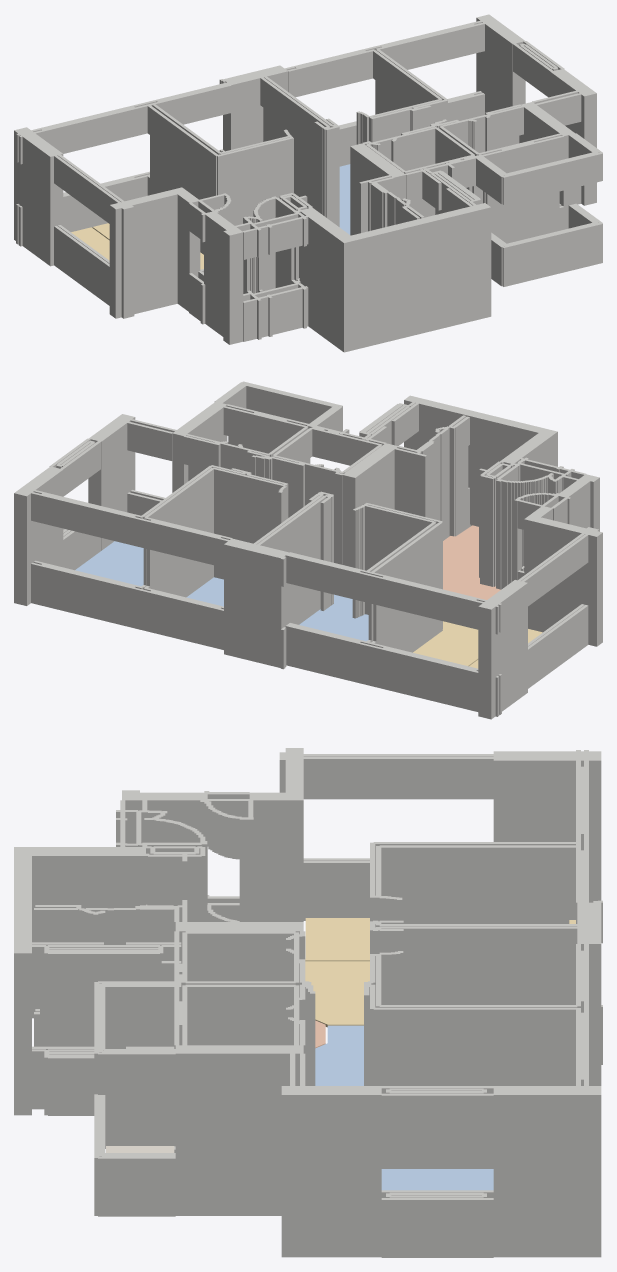
The picture shows the model from 3 angles, top to bottom: view 1: azimuth 30°, elevation 25°; view 2: azimuth 150°, elevation 25°; view 3: azimuth 270°, elevation 25°; orthographic projection. The views are drawn at different scales.
Visible parts, largest first — view 1: walls, room:bedroom:3, room:living:0; view 2: walls, room:kitchen:7, room:bedroom:4, room:living:1, room:bedroom:2, room:bedroom:3; view 3: walls, room:living:1, room:living:0, room:bedroom:2, room:bedroom:4.
Boxes of the visible parts, x1=… form: walls: x1=14, y1=14, x2=602, y2=352; room:bedroom:3: x1=339, y1=164, x2=350, y2=234; room:living:0: x1=71, y1=227, x2=109, y2=260; walls: x1=14, y1=381, x2=602, y2=719; room:kitchen:7: x1=443, y1=525, x2=500, y2=599; room:bedroom:4: x1=75, y1=541, x2=143, y2=586; room:living:1: x1=413, y1=621, x2=478, y2=666; room:bedroom:2: x1=299, y1=594, x2=368, y2=641; room:bedroom:3: x1=186, y1=577, x2=223, y2=606; walls: x1=14, y1=748, x2=602, y2=1257; room:living:1: x1=305, y1=961, x2=369, y2=1027; room:living:0: x1=305, y1=918, x2=575, y2=961; room:bedroom:2: x1=315, y1=1025, x2=363, y2=1085; room:bedroom:4: x1=381, y1=1169, x2=493, y2=1190.
Bounding box in the file's own units: 12.88 × 2.8 × 9.22.
